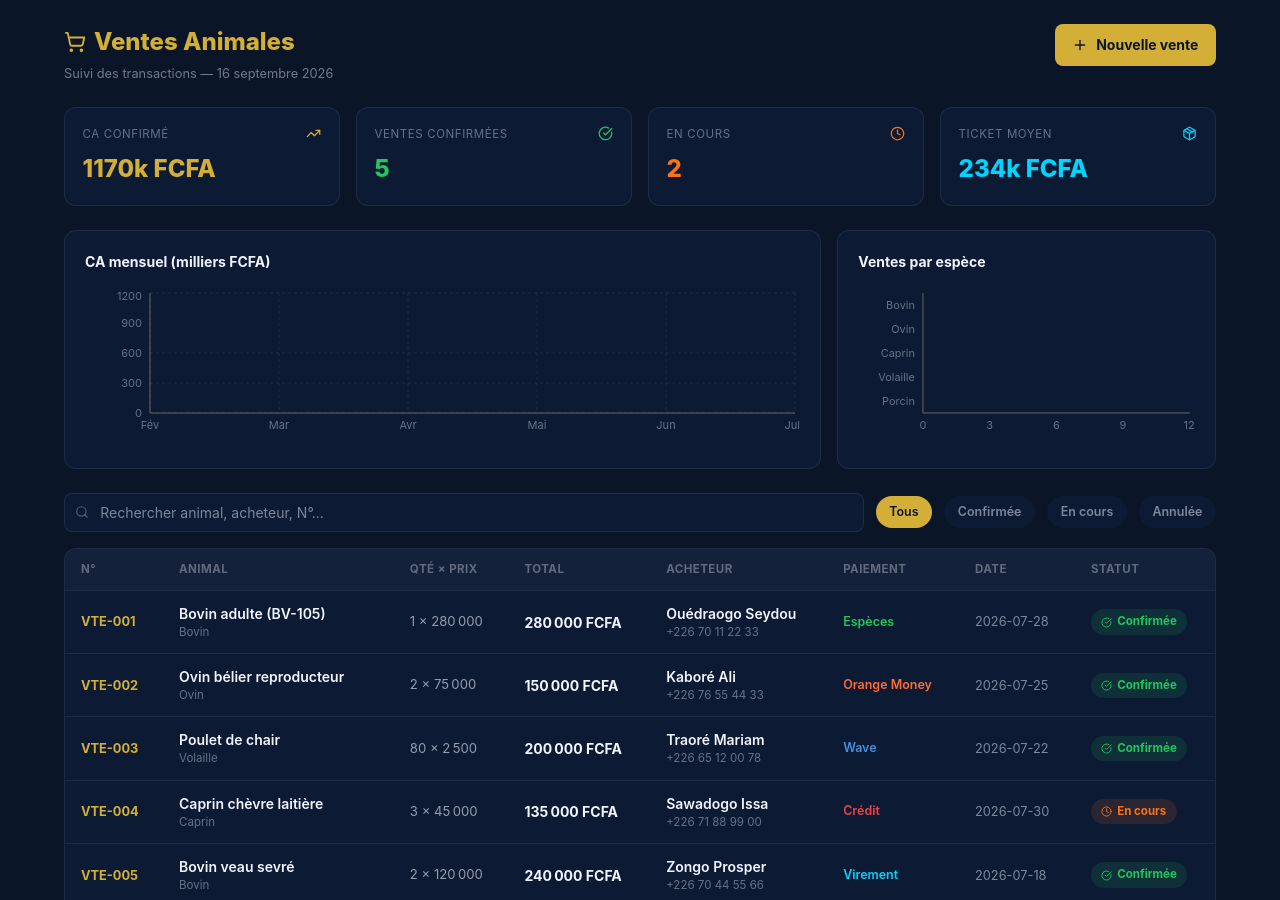
VentesPage › le filtre Annulée n'affiche que les ventes annulées
Click the button "Annulée".
click(1177, 512)  # box [1139,496,1216,528]
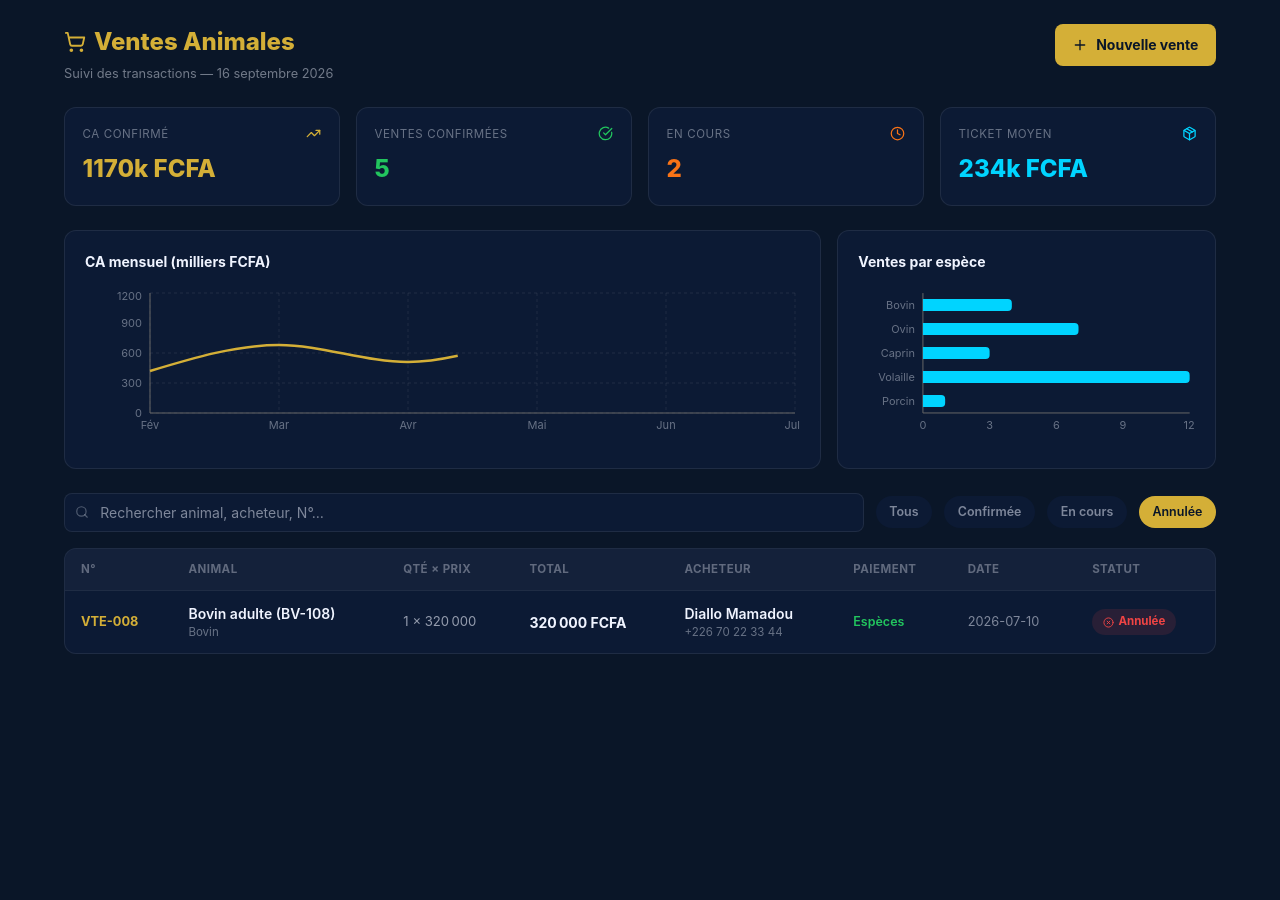
Expected: the text "VTE-008" is shown, [65,590,172,653]
Now the text "VTE-001" is gone
